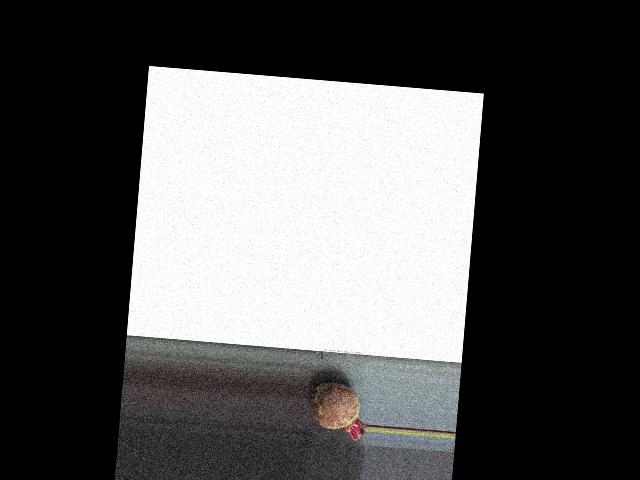beet: (309, 381, 369, 440)
